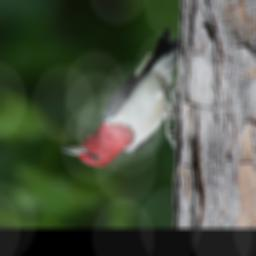Woodpecker: (56, 29, 186, 166)
